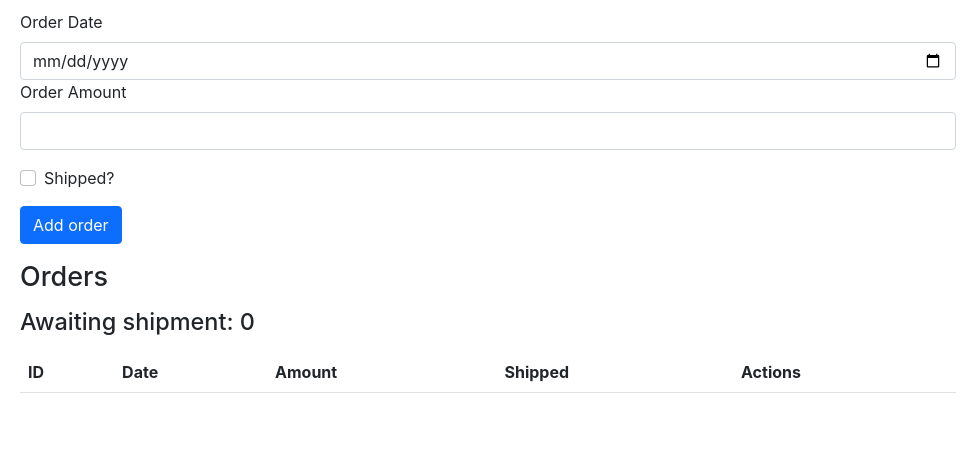
Test: Orders › can delete an order
Step 1. Type "2022-03-29" into the date field labelled "Order Date" → (488, 61), box [20, 42, 956, 80]
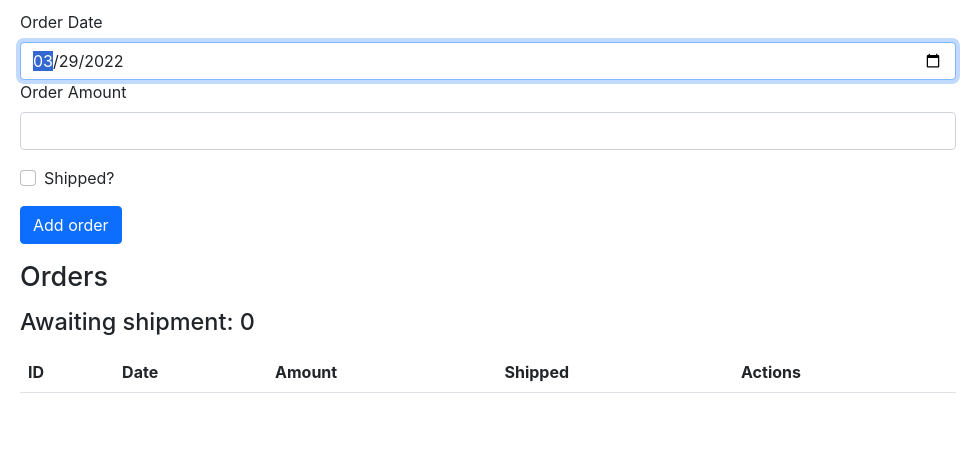
Step 2. Type "123" into the number field labelled "Order Amount" → (488, 131), box [20, 112, 956, 150]
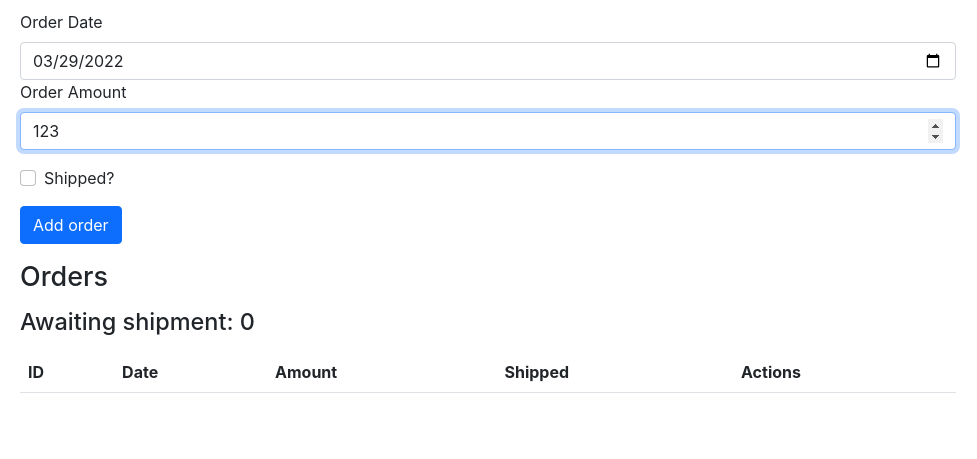
Step 3. Click the checkbox labelled "Shipped?" → (28, 178), box [20, 170, 36, 186]
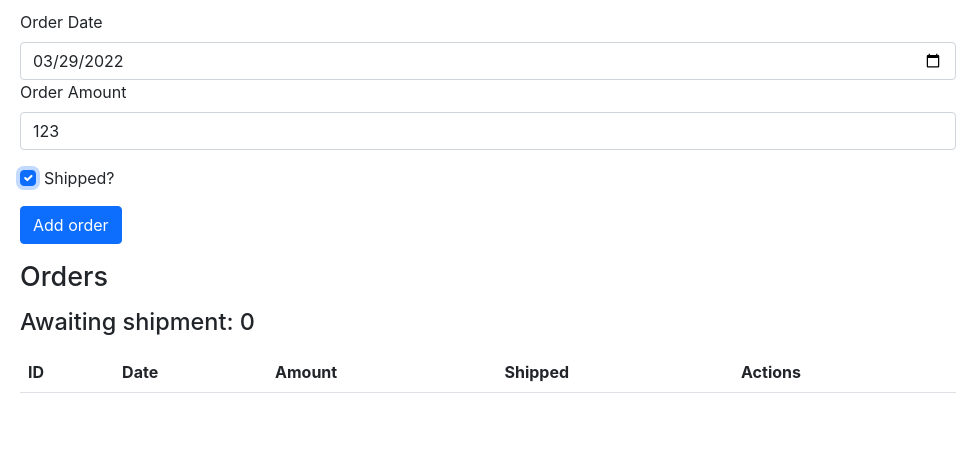
Step 4. Click the button "Add order" → (71, 225), box [20, 206, 122, 244]
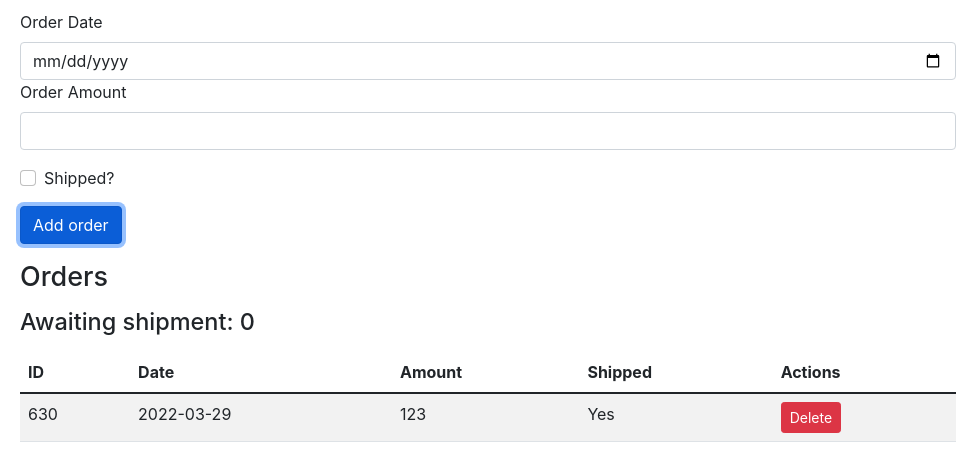
Expected: the cell "2022-03-29" is shown, [130, 394, 392, 442]
Click the delete button
Step 5. Click the button "Delete" → (811, 418), box [781, 402, 841, 434]
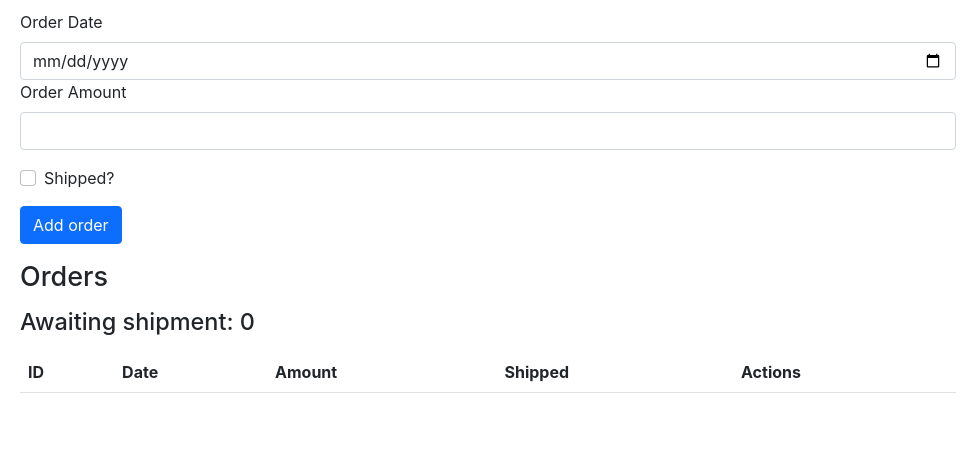
Expected: the cell "2022-03-29" is gone
